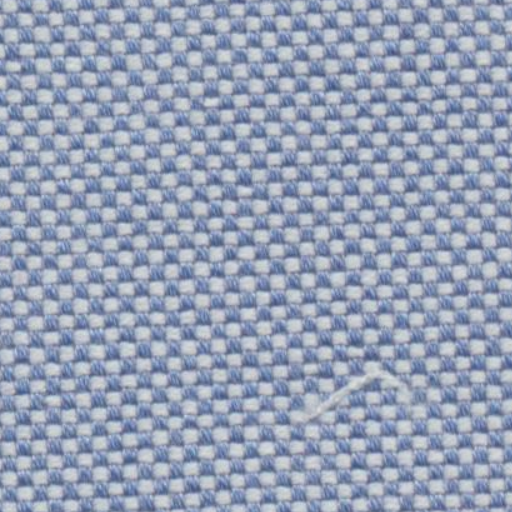DuanSha: (276, 342, 410, 431)
